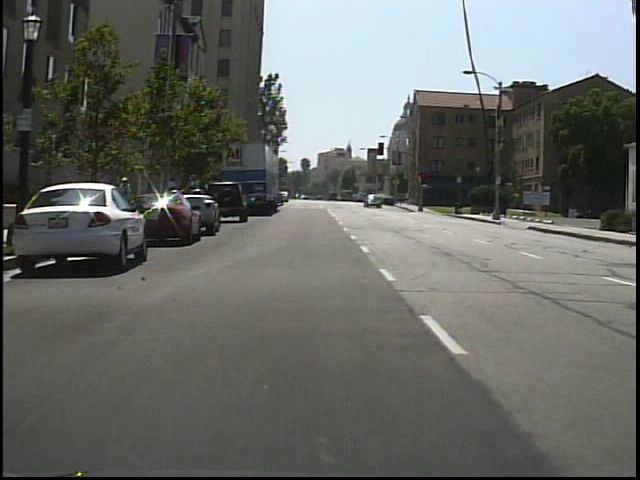person: (84, 168, 108, 224), (116, 172, 139, 222)
